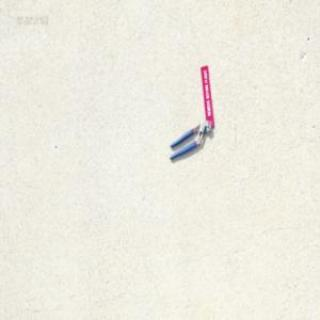LuggageTagtrack_idkeyframe: (199, 63, 213, 127)
Pliertrack_idkeyframe: (167, 118, 210, 160)
